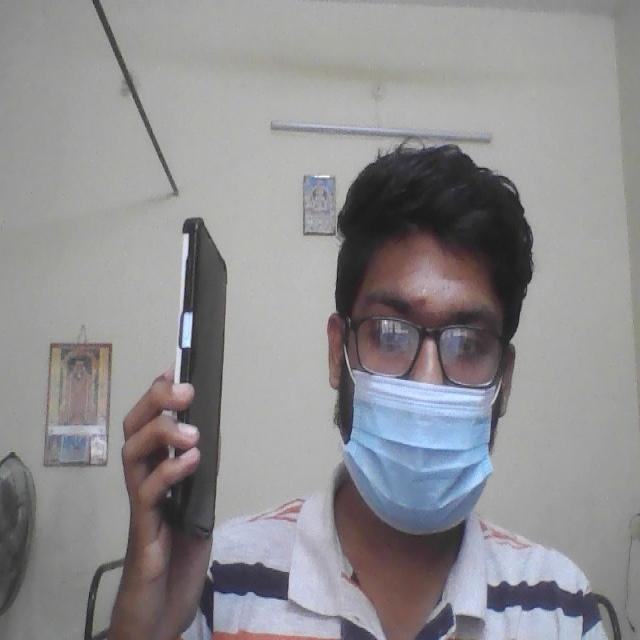Mobile: (179, 192, 225, 551)
